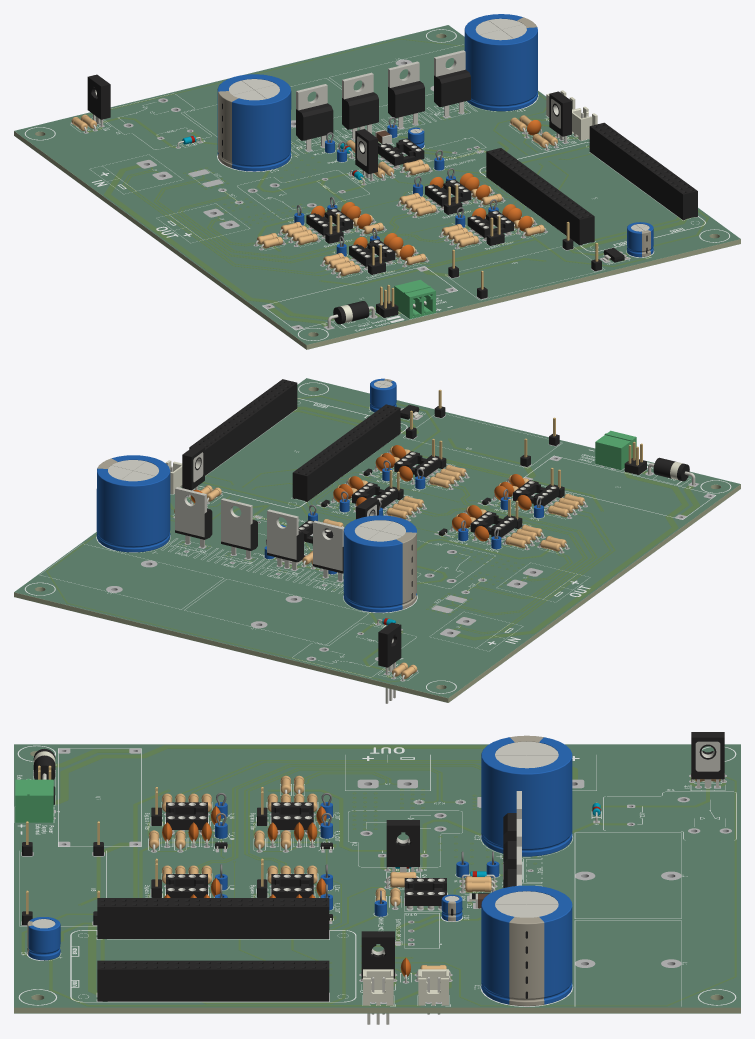
Rendered from Quadratic_Boost_Converter_v0.1.glb.
The picture shows the model from 3 angles, top to bottom: view 1: azimuth 30°, elevation 25°; view 2: azimuth 150°, elevation 25°; view 3: azimuth 270°, elevation 25°; orthographic projection. The views are drawn at different scales.
Parts seen in each view (by area): view 1: =>[0:1:1:51], =>[0:1:1:53], =>[0:1:1:25] (×2), =>[0:1:1:29] (×2), =>[0:1:1:23] (×3), =>[0:1:1:49], =>[0:1:1:19] (×5), =>[0:1:1:46], =>[0:1:1:27] (×3), =>[0:1:1:47], =>[0:1:1:15], =>[0:1:1:37] (+3 smaller); view 2: =>[0:1:1:51], =>[0:1:1:53], =>[0:1:1:25] (×2), =>[0:1:1:29] (×2), =>[0:1:1:49], =>[0:1:1:23] (×3), =>[0:1:1:46], =>[0:1:1:19] (×4), =>[0:1:1:47], =>[0:1:1:27] (×2), =>[0:1:1:15], =>[0:1:1:37] (+2 smaller); view 3: =>[0:1:1:51], =>[0:1:1:53], =>[0:1:1:25] (×2), =>[0:1:1:29] (×2), =>[0:1:1:46], =>[0:1:1:49], =>[0:1:1:19] (×5), =>[0:1:1:27] (×3), =>[0:1:1:47], =>[0:1:1:33] (×2), =>[0:1:1:37], =>[0:1:1:35] (+5 smaller).
Boxes of the visible parts, bbox=[...] form: =>[0:1:1:51]: bbox=[14, 25, 740, 344]; =>[0:1:1:53]: bbox=[14, 25, 740, 349]; =>[0:1:1:25] (×2): bbox=[217, 14, 537, 171]; =>[0:1:1:29] (×2): bbox=[486, 122, 697, 245]; =>[0:1:1:23] (×3): bbox=[296, 50, 470, 150]; =>[0:1:1:49]: bbox=[24, 29, 729, 340]; =>[0:1:1:19] (×5): bbox=[306, 138, 513, 268]; =>[0:1:1:46]: bbox=[88, 39, 708, 325]; =>[0:1:1:27] (×3): bbox=[87, 74, 571, 180]; =>[0:1:1:47]: bbox=[70, 59, 630, 329]; =>[0:1:1:15]: bbox=[342, 72, 378, 139]; =>[0:1:1:37]: bbox=[394, 279, 435, 318]; =>[0:1:1:51]: bbox=[14, 378, 740, 698]; =>[0:1:1:53]: bbox=[14, 379, 740, 702]; =>[0:1:1:25] (×2): bbox=[96, 455, 416, 612]; =>[0:1:1:29] (×2): bbox=[189, 379, 400, 501]; =>[0:1:1:49]: bbox=[24, 382, 731, 693]; =>[0:1:1:23] (×3): bbox=[175, 487, 344, 581]; =>[0:1:1:46]: bbox=[46, 396, 699, 681]; =>[0:1:1:19] (×4): bbox=[352, 451, 559, 537]; =>[0:1:1:47]: bbox=[106, 408, 715, 681]; =>[0:1:1:27] (×2): bbox=[182, 445, 401, 703]; =>[0:1:1:15]: bbox=[267, 509, 303, 570]; =>[0:1:1:37]: bbox=[595, 430, 636, 470]; =>[0:1:1:51]: bbox=[14, 744, 740, 1007]; =>[0:1:1:53]: bbox=[14, 745, 740, 1013]; =>[0:1:1:25] (×2): bbox=[481, 735, 572, 1006]; =>[0:1:1:29] (×2): bbox=[97, 898, 329, 1001]; =>[0:1:1:46]: bbox=[22, 746, 735, 1005]; =>[0:1:1:49]: bbox=[14, 745, 736, 1006]; =>[0:1:1:19] (×5): bbox=[166, 802, 446, 909]; =>[0:1:1:27] (×3): bbox=[361, 732, 724, 1024]; =>[0:1:1:47]: bbox=[21, 748, 731, 1003]; =>[0:1:1:33] (×2): bbox=[363, 969, 448, 1014]; =>[0:1:1:37]: bbox=[15, 778, 53, 822]; =>[0:1:1:35]: bbox=[27, 917, 60, 960].
Size of the model in its own units: 0.15 by 0.0318 by 0.175.
